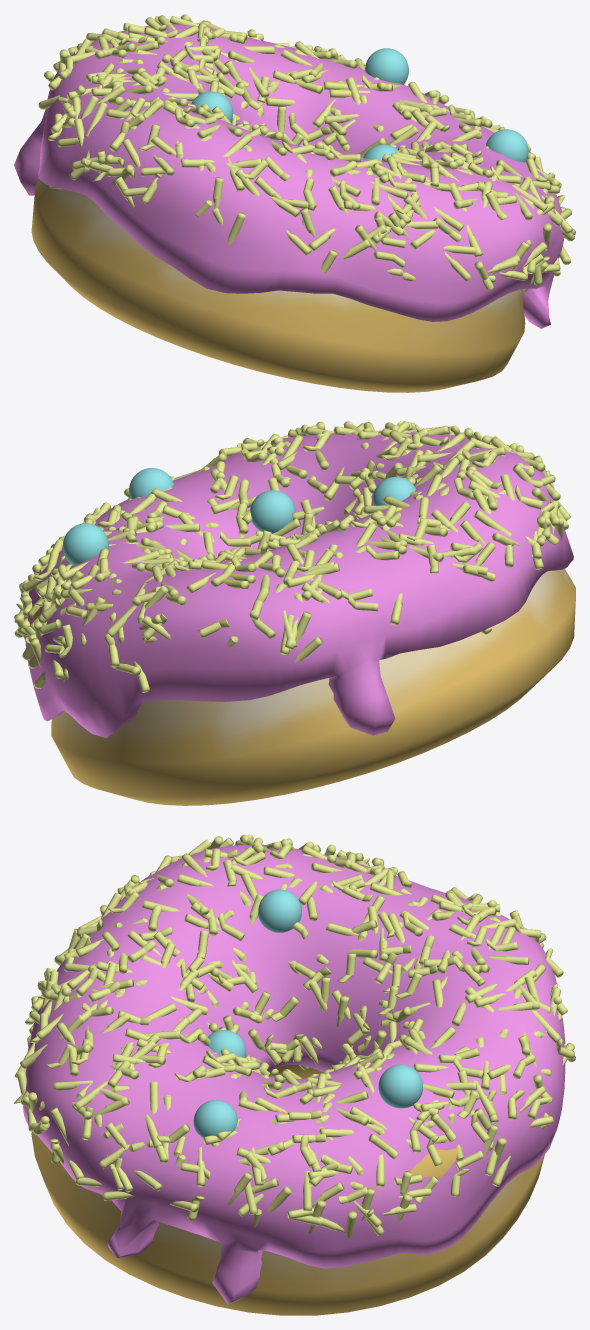
The model's file is donut1.glb.
3 views of the same model, one above another, from view 1: azimuth 30°, elevation 25°; view 2: azimuth 150°, elevation 25°; view 3: azimuth 270°, elevation 25° (orthographic). The views are drawn at different scales.
Visible parts, largest first — view 1: icing, donut, Sphere.003, Sphere, Sphere.002; view 2: icing, donut, Sphere.001, Sphere.003, Sphere, Sphere.002; view 3: icing, donut, Sphere.003, Sphere.002, Sphere, Sphere.001.
Boxes of the visible parts, box(x1,y1,x2,y2) form: icing: box(14, 24, 564, 328); donut: box(31, 179, 525, 392); Sphere.003: box(365, 48, 408, 84); Sphere: box(486, 129, 528, 162); Sphere.002: box(191, 91, 233, 121); icing: box(24, 430, 573, 738); donut: box(32, 569, 575, 805); Sphere.001: box(250, 490, 295, 533); Sphere.003: box(62, 523, 108, 564); Sphere: box(129, 468, 173, 499); Sphere.002: box(372, 476, 415, 505); icing: box(23, 844, 565, 1304); donut: box(31, 1065, 544, 1315); Sphere.003: box(378, 1064, 422, 1108); Sphere.002: box(258, 889, 301, 932); Sphere: box(193, 1100, 237, 1137); Sphere.001: box(207, 1030, 246, 1057).
Size of the model in its own units: 0.7314 by 0.4694 by 0.7516.
Materials: 4 (1 with a texture image).
